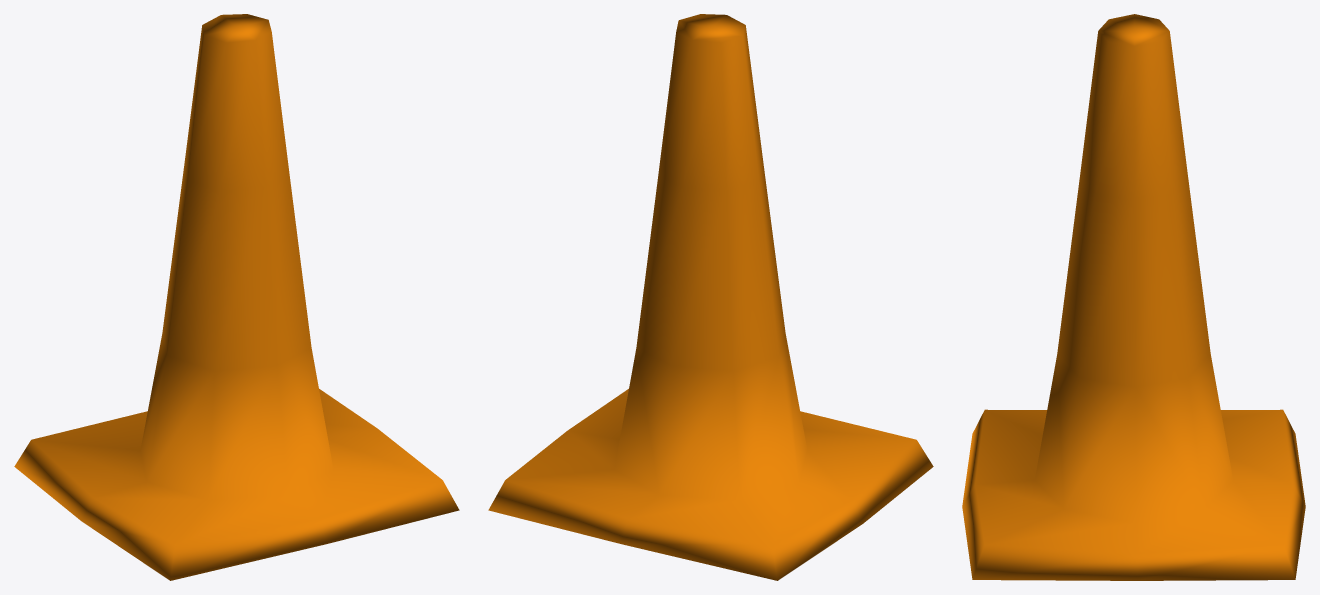
The model's file is trafficCone.fbx.
The picture shows the model from 3 angles, left to right: view 1: azimuth 30°, elevation 25°; view 2: azimuth 150°, elevation 25°; view 3: azimuth 270°, elevation 25°; orthographic projection. The views are drawn at different scales.
Parts seen in each view (by area): view 1: pCube2; view 2: pCube2; view 3: pCube2.
Boxes of the visible parts, bbox=[...] form: pCube2: bbox=[14, 14, 459, 580]; pCube2: bbox=[488, 14, 933, 580]; pCube2: bbox=[962, 14, 1305, 580].
Size of the model in its own units: 2.56 by 3.66 by 2.39.
